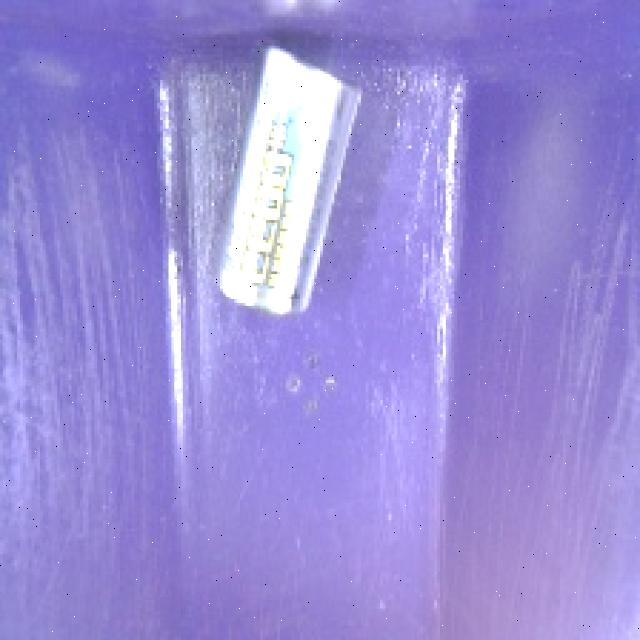battery: (210, 35, 371, 326)
